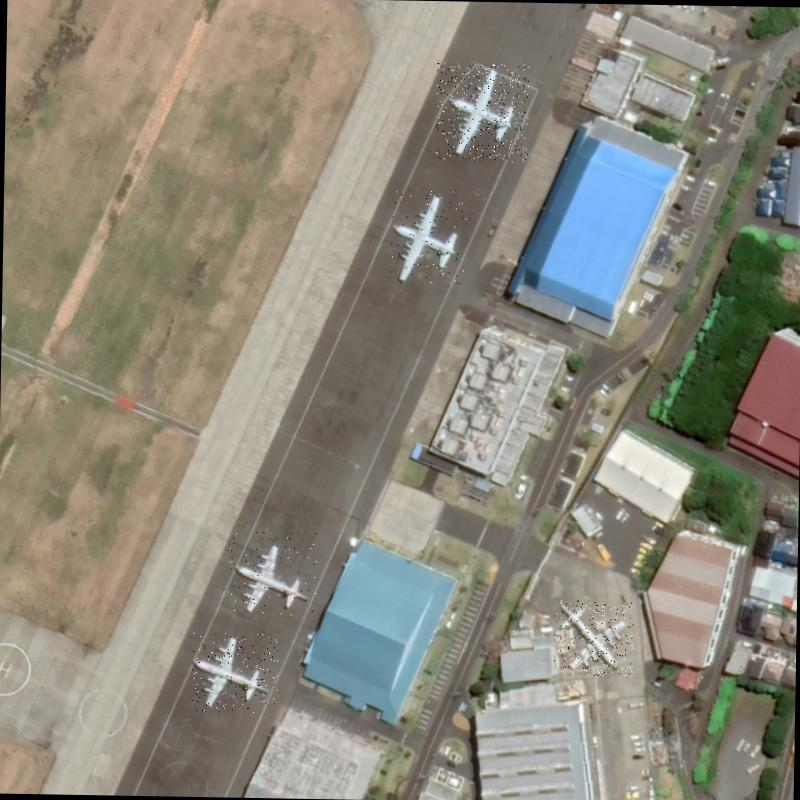A2: (435, 62, 529, 162), (388, 189, 467, 287)
A9: (228, 531, 318, 617), (192, 632, 278, 712), (553, 600, 634, 676)
